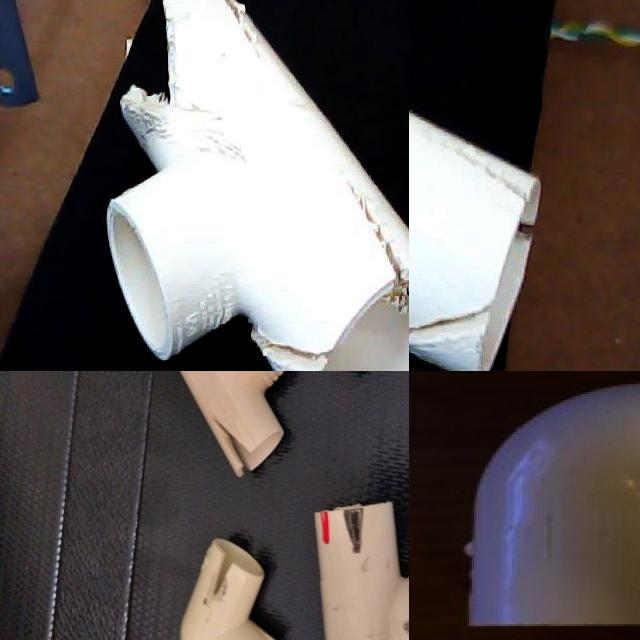Defective: (124, 0, 242, 168), (322, 142, 409, 344), (409, 114, 537, 237), (409, 238, 495, 345), (241, 298, 322, 371), (209, 0, 253, 65), (271, 466, 313, 529), (86, 445, 136, 491), (309, 599, 343, 640), (198, 462, 238, 494), (279, 389, 305, 426), (125, 622, 173, 640), (142, 593, 164, 606)
L Joint: (466, 383, 640, 628), (18, 404, 148, 538), (276, 582, 409, 640)
T Joint: (105, 0, 409, 371), (409, 112, 540, 371), (191, 377, 335, 551), (0, 583, 177, 640)
